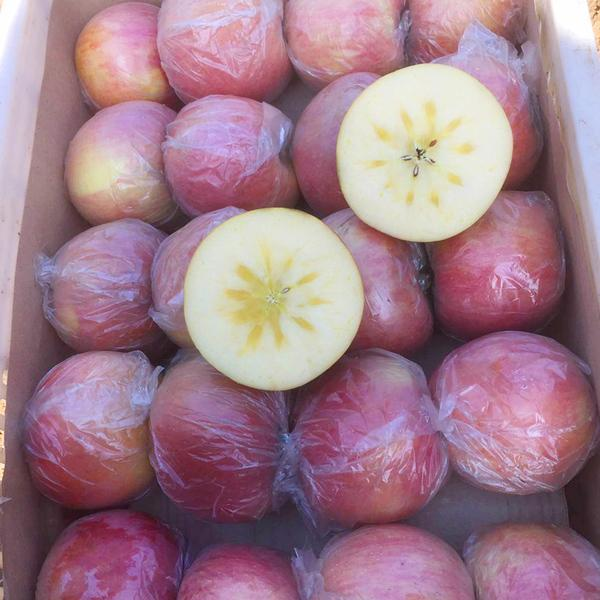apple: (436, 329, 591, 496), (290, 351, 445, 518), (148, 353, 293, 519), (424, 186, 568, 341), (26, 348, 155, 512), (40, 219, 165, 358), (164, 93, 297, 212), (326, 209, 431, 357), (60, 95, 177, 224), (290, 73, 380, 215), (314, 523, 474, 597), (72, 3, 170, 111)
